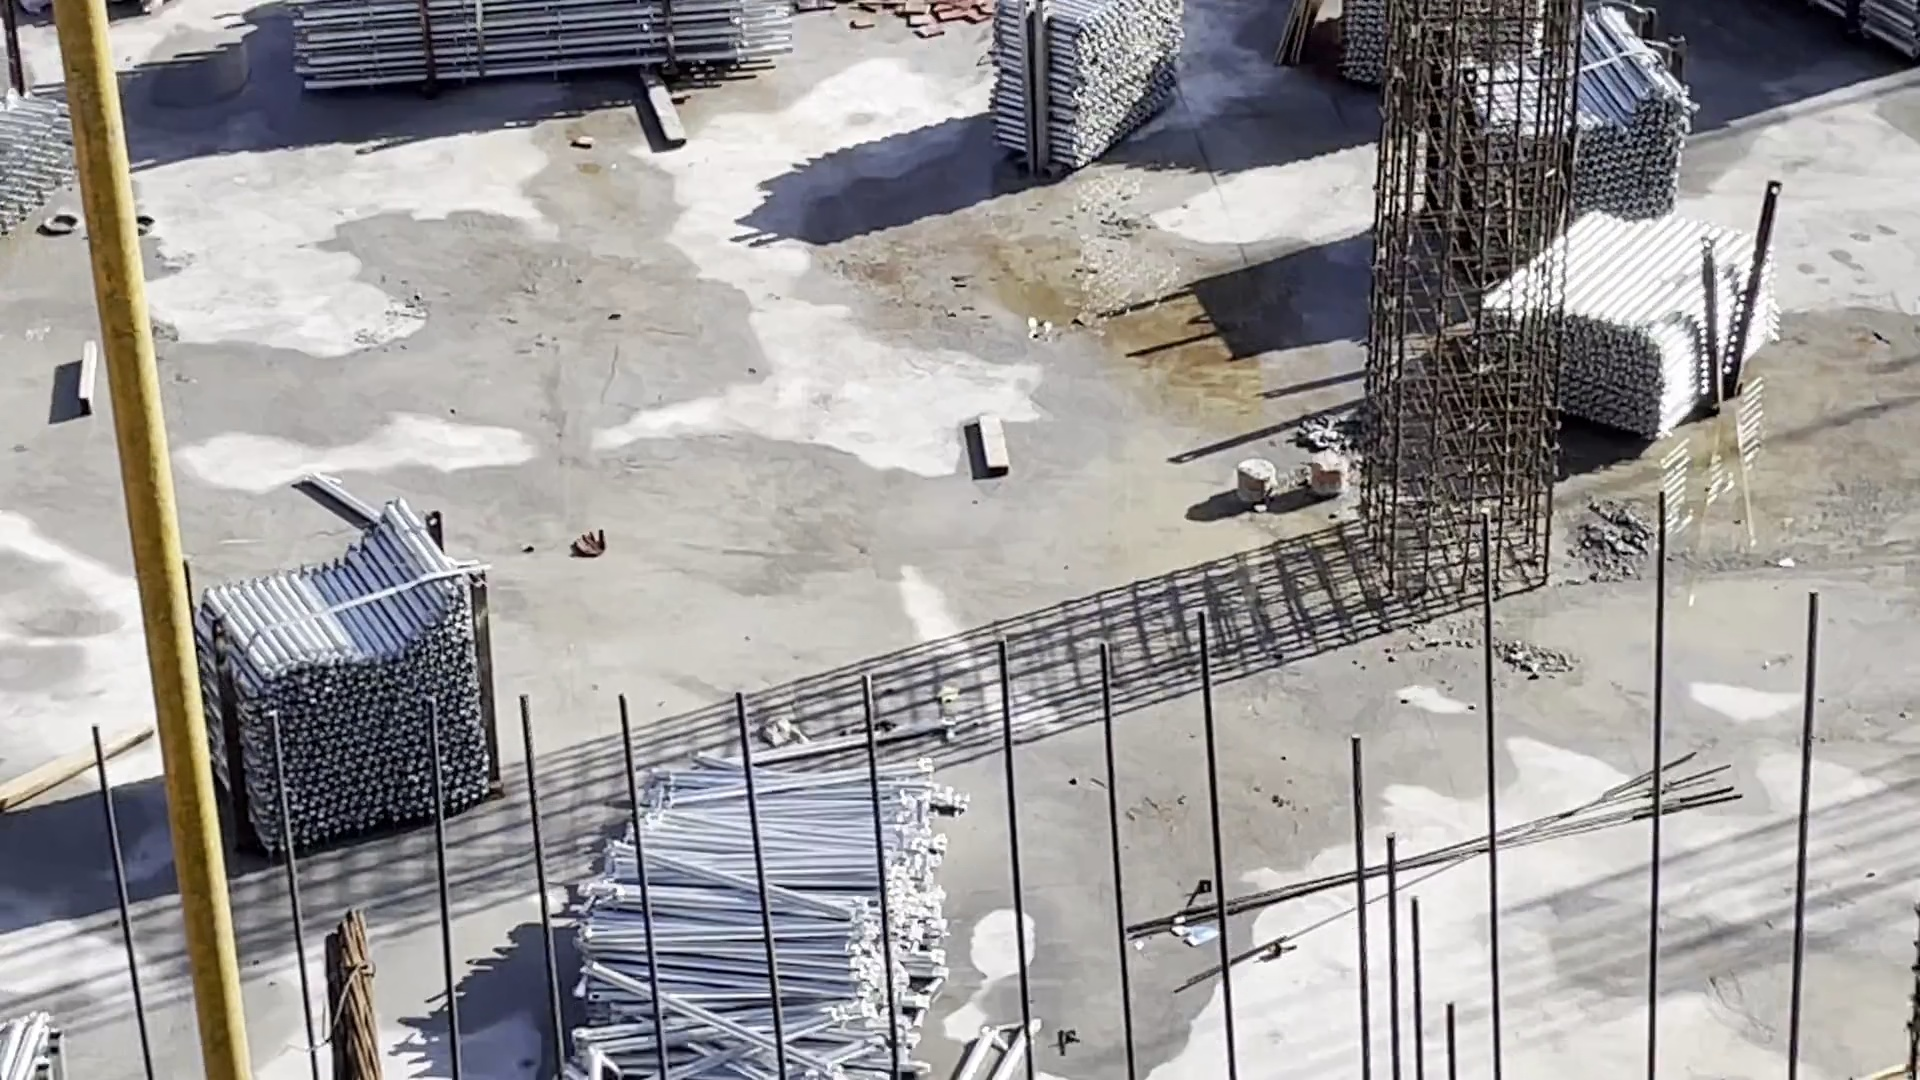scaffold: (1348, 3, 1780, 455), (580, 744, 956, 1080), (185, 497, 506, 868), (281, 5, 796, 83), (986, 4, 1184, 175)
